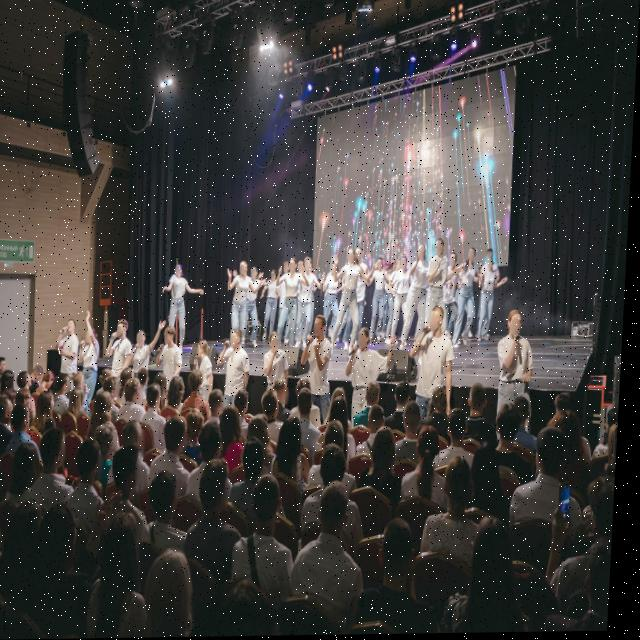Person: (300, 477, 369, 629), (87, 506, 155, 639), (35, 503, 98, 637), (237, 472, 303, 594), (520, 420, 578, 544), (406, 301, 465, 417), (198, 453, 250, 584), (576, 475, 620, 624), (366, 513, 424, 625), (138, 545, 207, 638), (435, 460, 491, 559), (495, 308, 543, 416), (152, 468, 202, 561), (111, 443, 156, 546), (348, 328, 398, 410), (308, 313, 342, 420), (197, 423, 237, 506), (319, 442, 362, 519), (157, 415, 198, 494), (166, 259, 204, 344), (9, 436, 47, 520), (491, 399, 528, 481), (427, 237, 455, 337), (80, 438, 110, 530), (83, 311, 110, 410), (295, 256, 322, 352), (410, 435, 447, 502), (343, 249, 367, 350), (45, 425, 76, 503), (229, 259, 256, 348), (409, 244, 433, 344), (375, 425, 405, 505), (446, 249, 468, 358), (93, 391, 126, 463), (223, 330, 253, 406), (280, 259, 304, 351), (354, 247, 376, 345), (444, 404, 477, 469), (461, 249, 482, 349), (109, 309, 137, 383), (248, 413, 278, 480), (283, 415, 312, 484), (479, 258, 501, 348), (296, 386, 325, 453), (515, 389, 546, 450), (245, 266, 267, 351), (267, 332, 297, 393), (396, 256, 415, 350), (467, 379, 497, 438), (245, 438, 274, 498), (165, 324, 191, 389), (325, 261, 345, 345), (125, 420, 157, 471), (133, 319, 162, 374), (60, 314, 86, 375), (13, 406, 39, 465), (196, 340, 221, 401), (260, 390, 287, 444), (389, 260, 405, 349), (373, 256, 389, 343), (226, 397, 249, 454), (365, 405, 393, 451), (327, 416, 354, 462), (280, 261, 294, 348), (126, 368, 149, 420), (0, 392, 20, 451), (166, 372, 193, 415), (267, 268, 283, 340), (332, 383, 356, 431), (405, 401, 426, 455), (77, 369, 98, 420), (363, 383, 390, 422), (396, 380, 417, 430), (148, 385, 170, 432), (0, 479, 8, 605), (297, 260, 307, 347), (42, 390, 63, 429), (487, 249, 506, 286), (606, 401, 623, 441), (276, 380, 295, 414), (561, 384, 584, 412), (56, 371, 77, 401), (24, 387, 39, 419), (120, 363, 139, 388), (35, 361, 52, 387), (22, 367, 36, 395), (5, 371, 21, 395), (46, 370, 63, 391), (0, 359, 19, 376), (107, 377, 124, 396), (143, 365, 157, 388), (101, 365, 118, 381), (0, 401, 3, 444), (0, 352, 1, 377)
